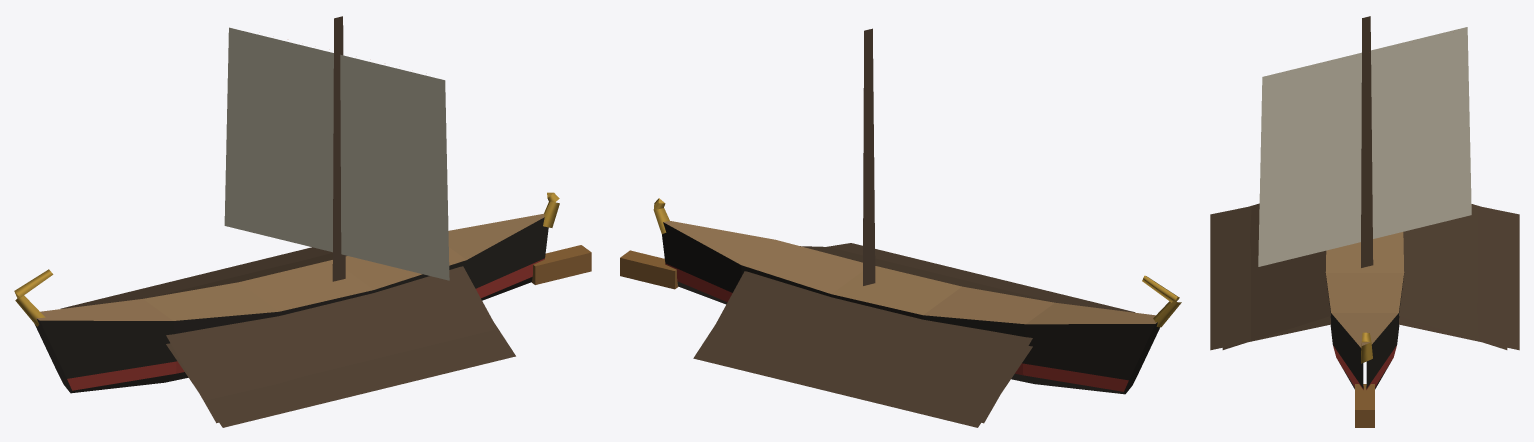
The model's file is hull_gold_bireme_medium_lod.glb.
3 views of the same model, side by side, from view 1: azimuth 30°, elevation 25°; view 2: azimuth 150°, elevation 25°; view 3: azimuth 270°, elevation 25° (orthographic). The views are drawn at different scales.
Parts seen in each view (by area): view 1: lod; view 2: lod; view 3: lod.
Boxes of the visible parts, x1,y1,x2,y2 form: lod: (14, 16, 591, 427); lod: (620, 28, 1181, 427); lod: (1210, 16, 1519, 427).
Bounding box in the file's own units: 14.46 × 7.91 × 7.12.
